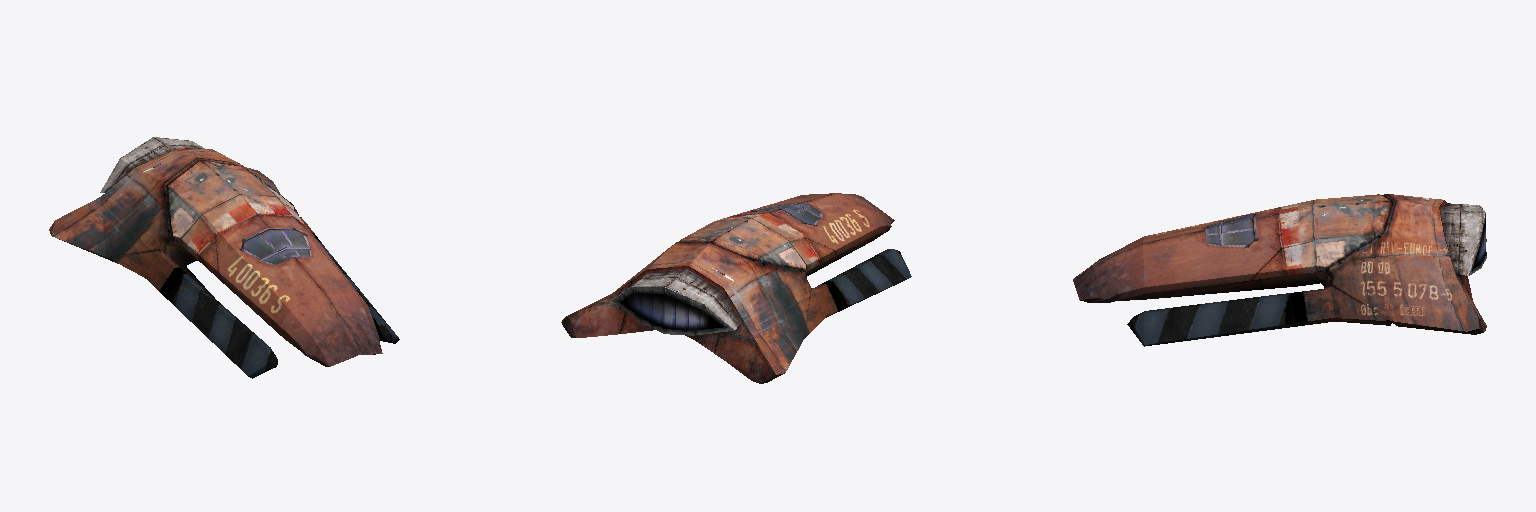
3 views of the same model, side by side, from view 1: azimuth 30°, elevation 25°; view 2: azimuth 150°, elevation 25°; view 3: azimuth 270°, elevation 25° (orthographic).
Parts seen in each view (by area): view 1: Craft_Craft; view 2: Craft_Craft; view 3: Craft_Craft.
Part boxes in pixels (bbox=[...]): Craft_Craft: bbox=[49, 137, 399, 378]; Craft_Craft: bbox=[561, 193, 911, 383]; Craft_Craft: bbox=[1073, 194, 1486, 346].
Size of the model in its own units: 3.88 by 1.86 by 6.27.
Materials: 1 (1 with a texture image).